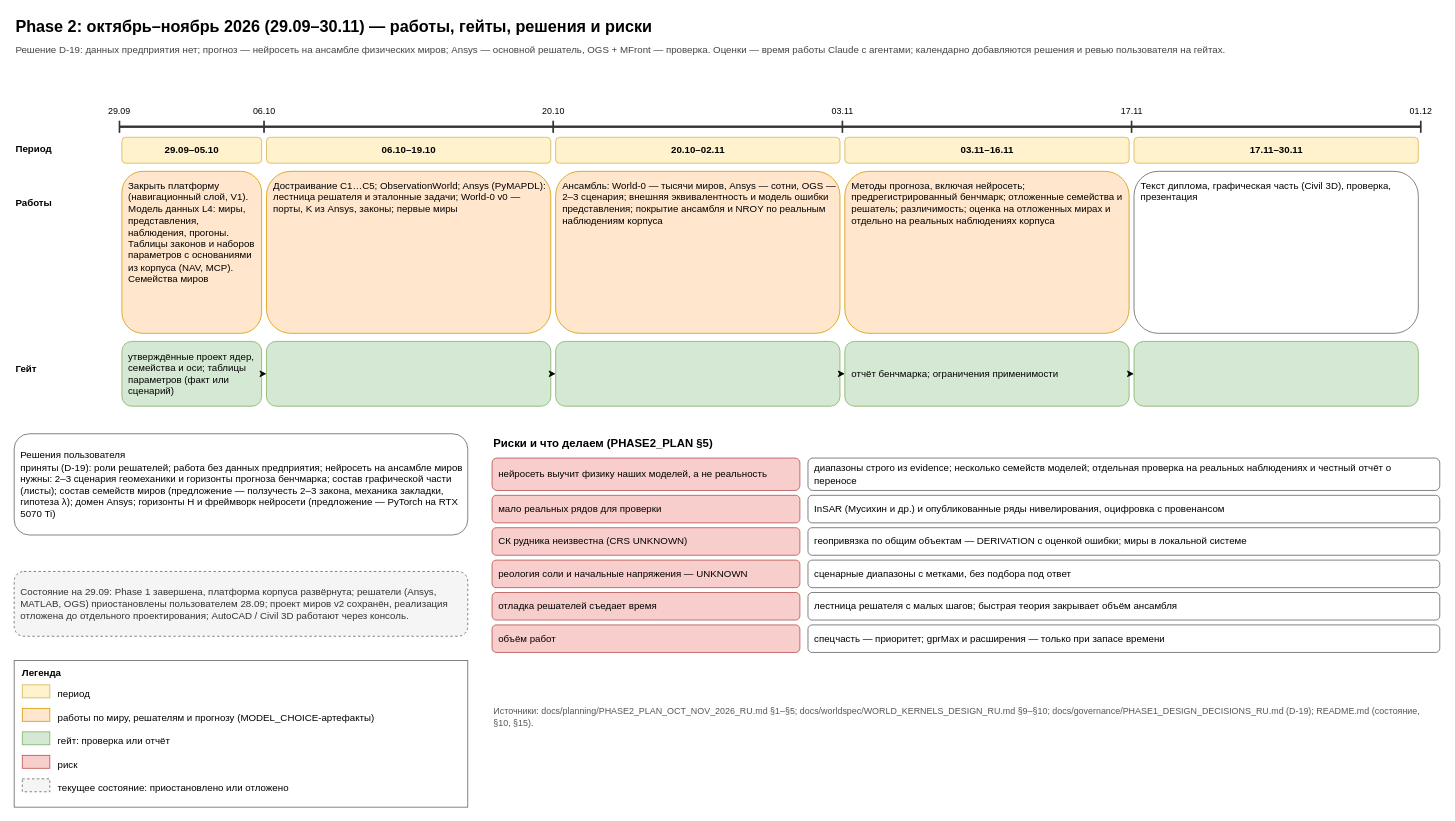
Some shapes in this 1455 by 821 pixel diagram are drawn without their labels. Each missing label, with the centre of its shape:
ансамбль с квитанциями; сверка решателей; отчёт покрытия; NROY: (x=697, y=373)
диплом: (x=1275, y=373)
миры проходят проверки; Ansys на эталонной задаче: (x=408, y=373)
